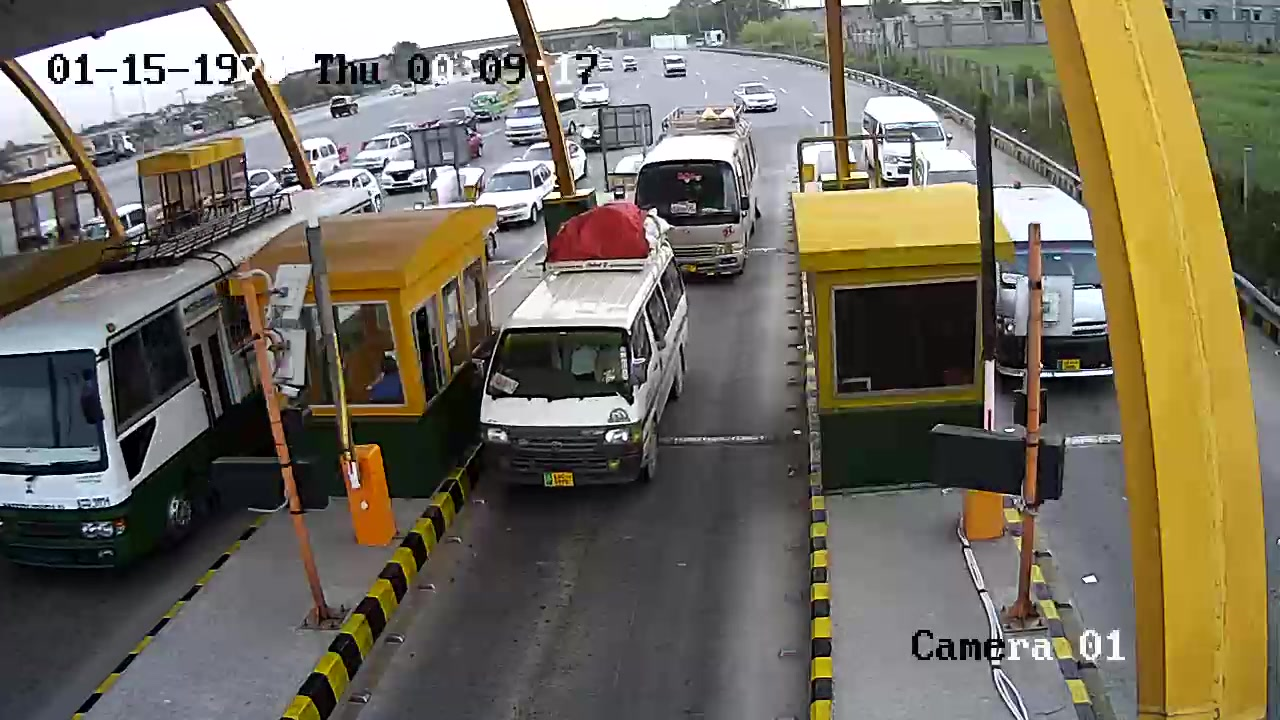F3: (462, 195, 698, 500)
